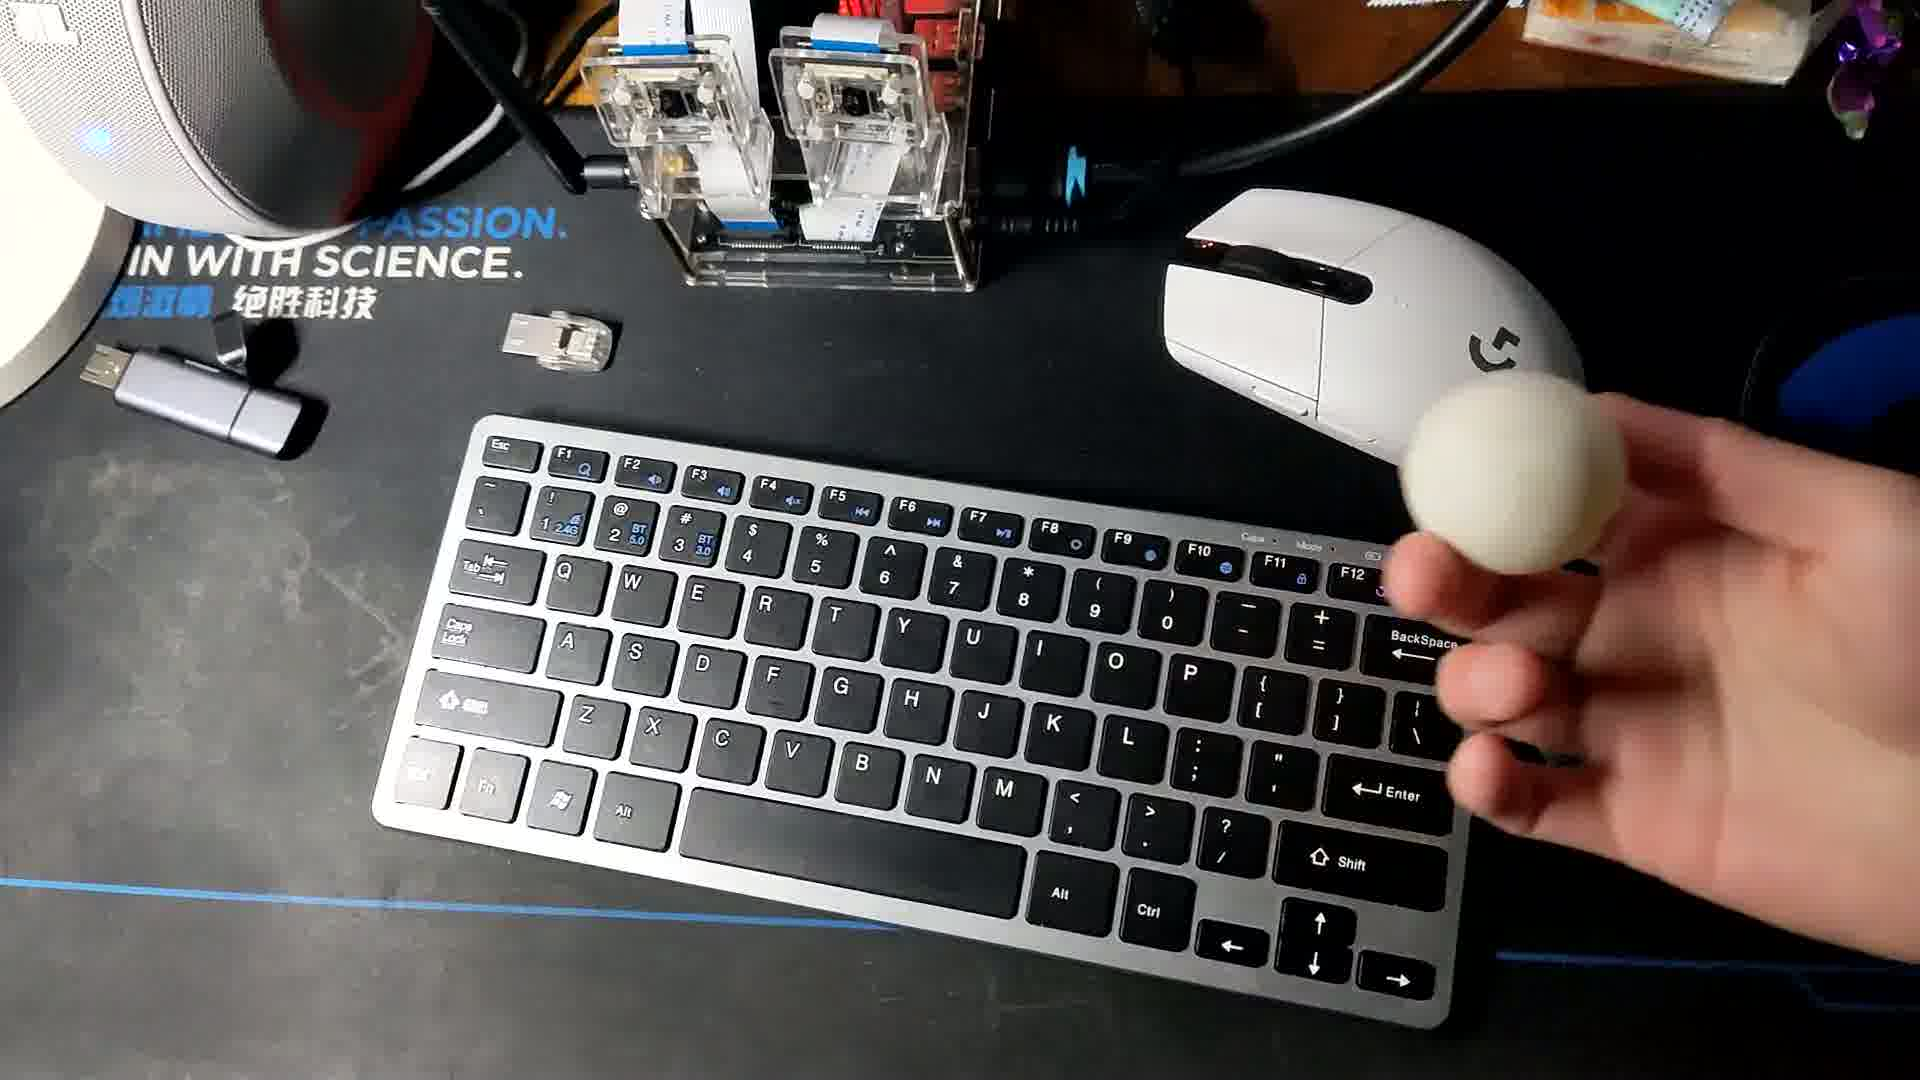Ball: (1394, 375, 1630, 580)
